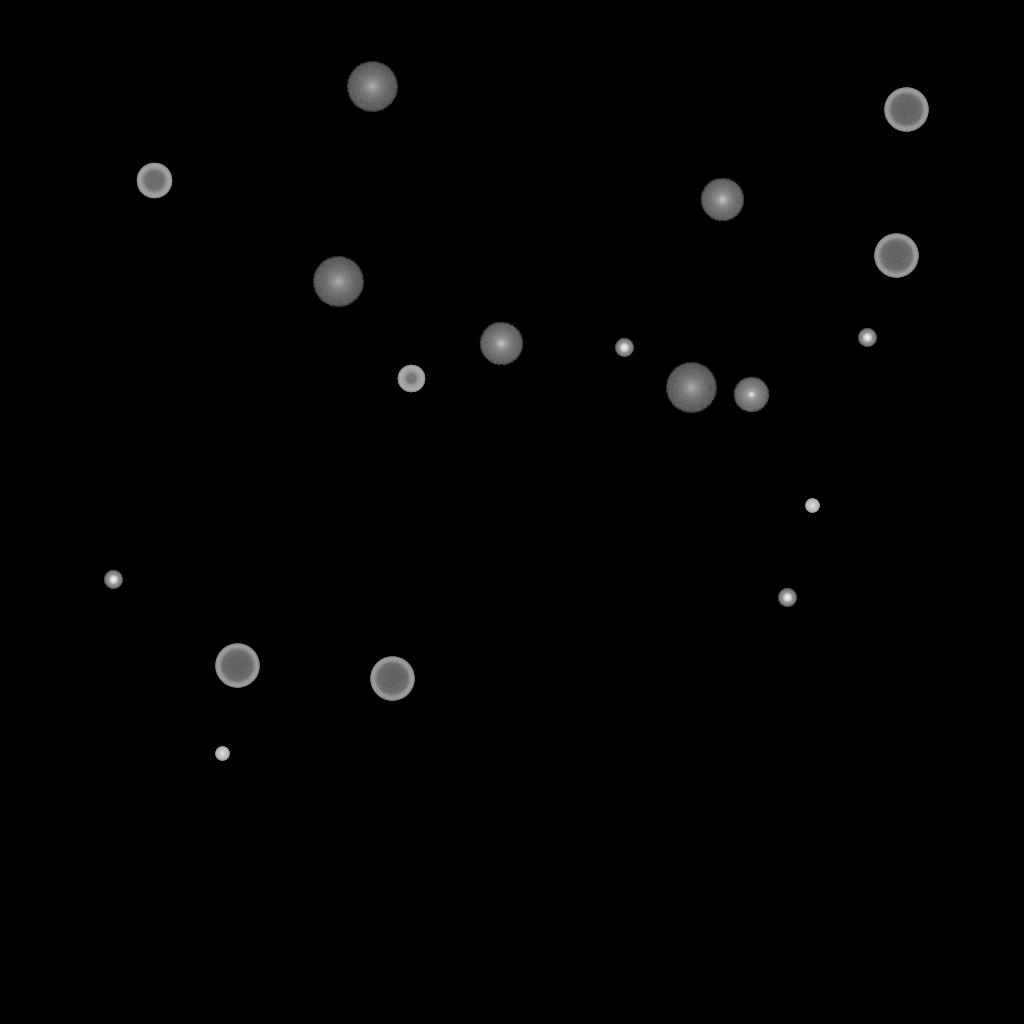depth:-20: (778, 589, 796, 607), (858, 329, 876, 347), (615, 339, 633, 357), (104, 571, 122, 589)
depth:-30: (215, 747, 229, 761), (805, 499, 819, 513)
depth:-50: (397, 365, 425, 393)
depth:-60: (136, 163, 172, 199)
depth:-70: (884, 88, 928, 132), (370, 657, 414, 701), (874, 234, 918, 278), (215, 644, 259, 688)
depth:0: (733, 377, 769, 413)
depth:10: (479, 322, 523, 366), (700, 178, 744, 222)
depth:20: (665, 363, 717, 413), (312, 257, 364, 307), (346, 62, 398, 112)
